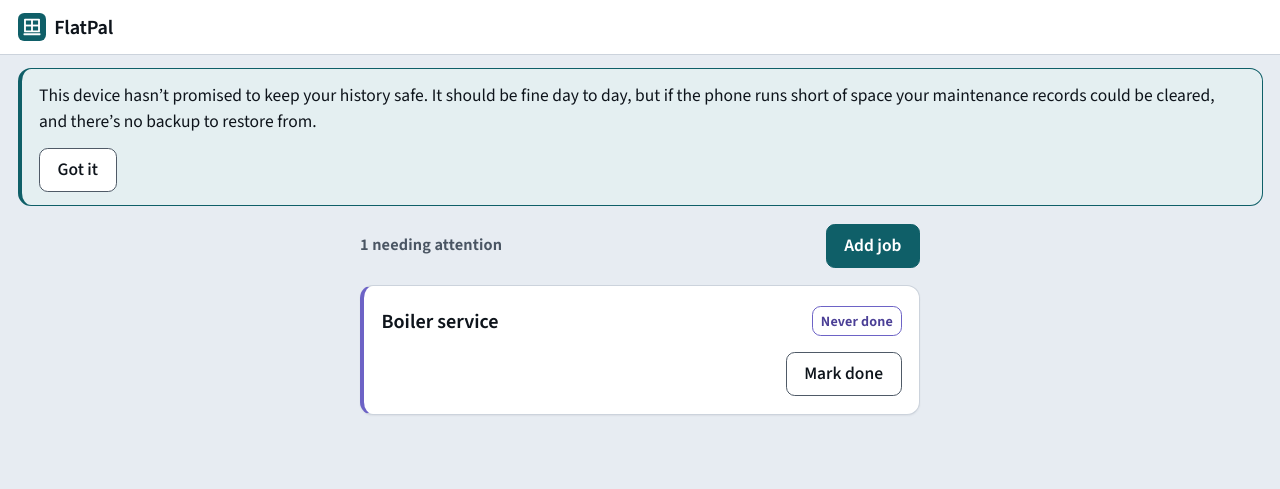
Scenario: recording a completion on a past date › refuses a date in the future, and saves nothing
Step 1. Click the button "Boiler service" → coordinates (440, 321), box [382, 299, 499, 343]
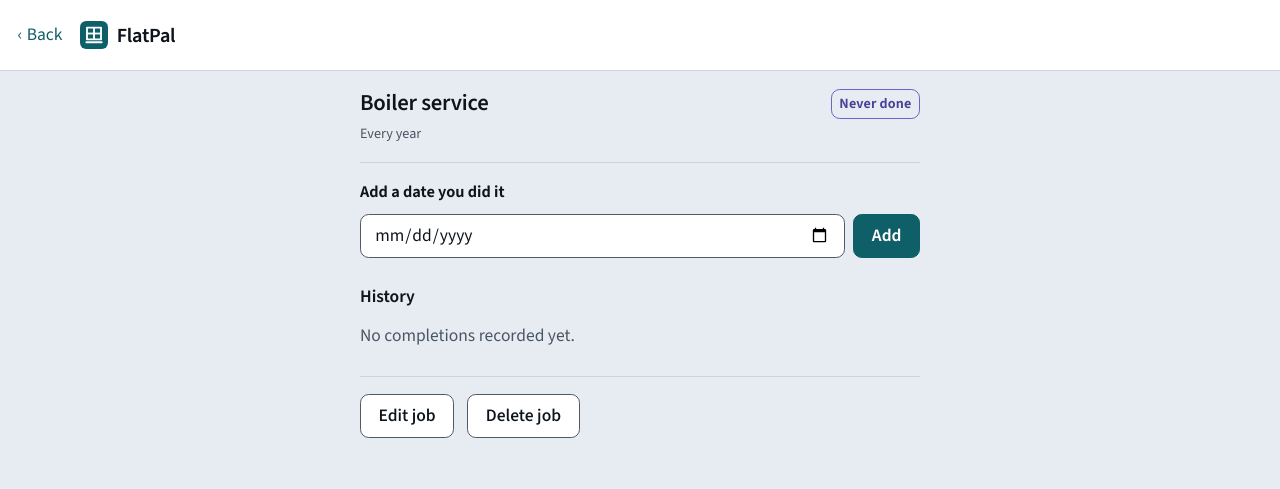
Expected: the heading "Boiler service" is shown, [360, 90, 488, 118]
Step 2. Type "2027-01-01" into the date field labelled "Add a date you did it" → coordinates (602, 236), box [360, 214, 845, 258]
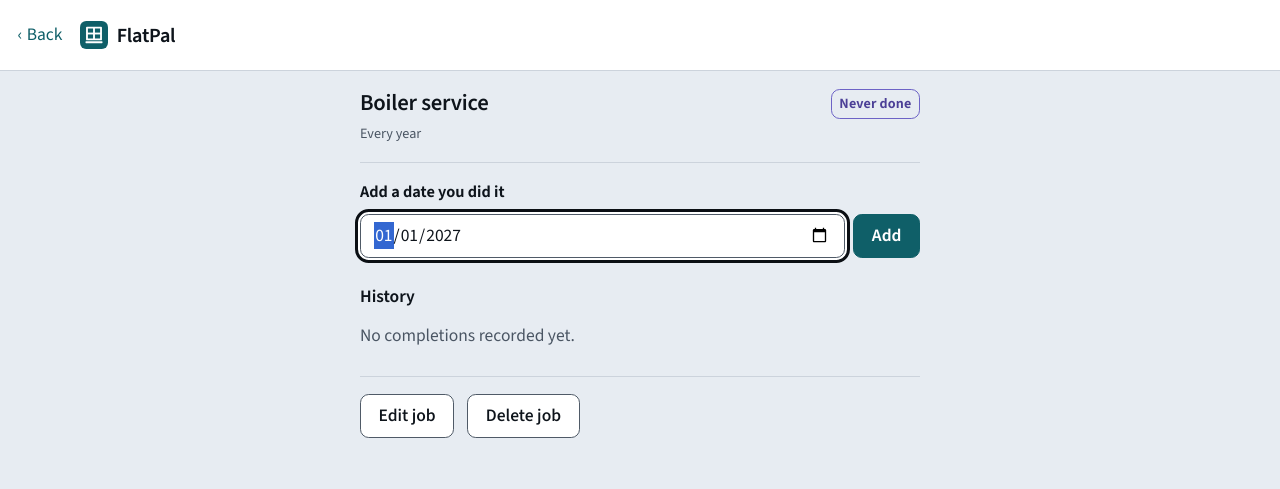
Step 3. Click the button "Add" → coordinates (887, 236), box [853, 214, 920, 258]
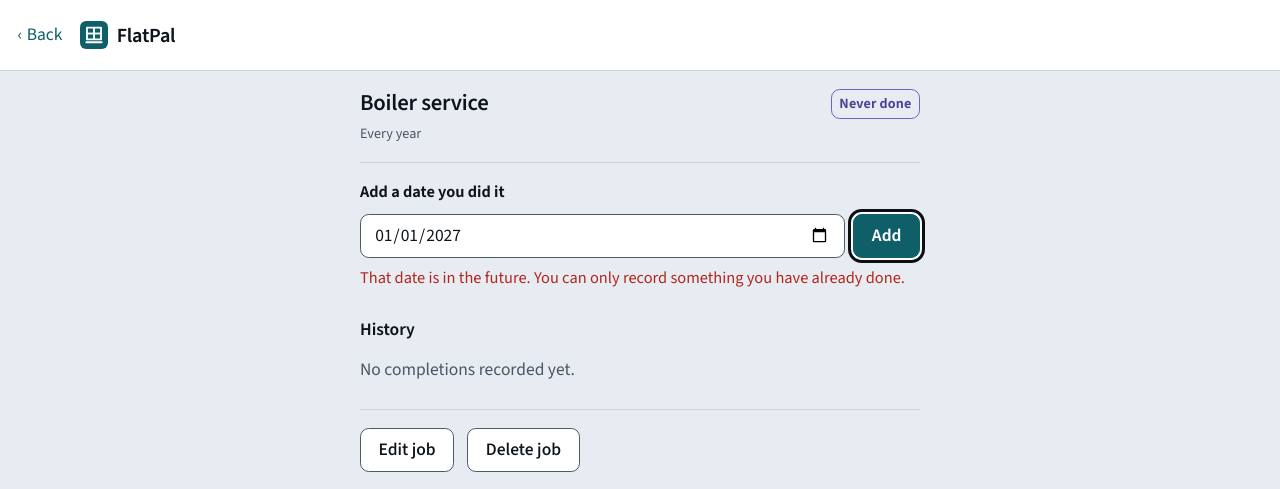
Now the text "in the future" is shown, box [360, 266, 905, 290]
